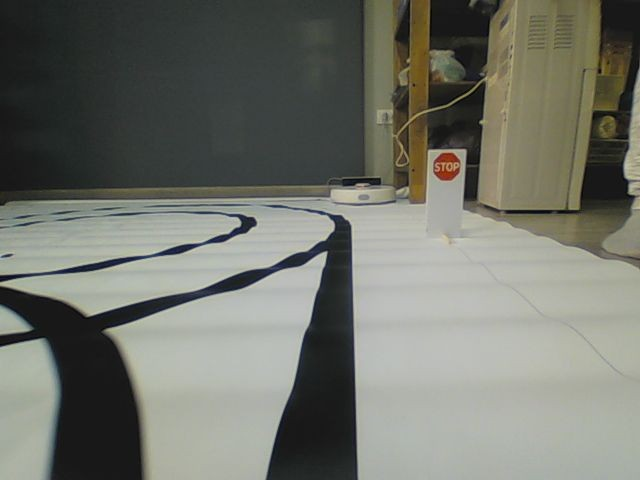Stop: (433, 153, 462, 182)
